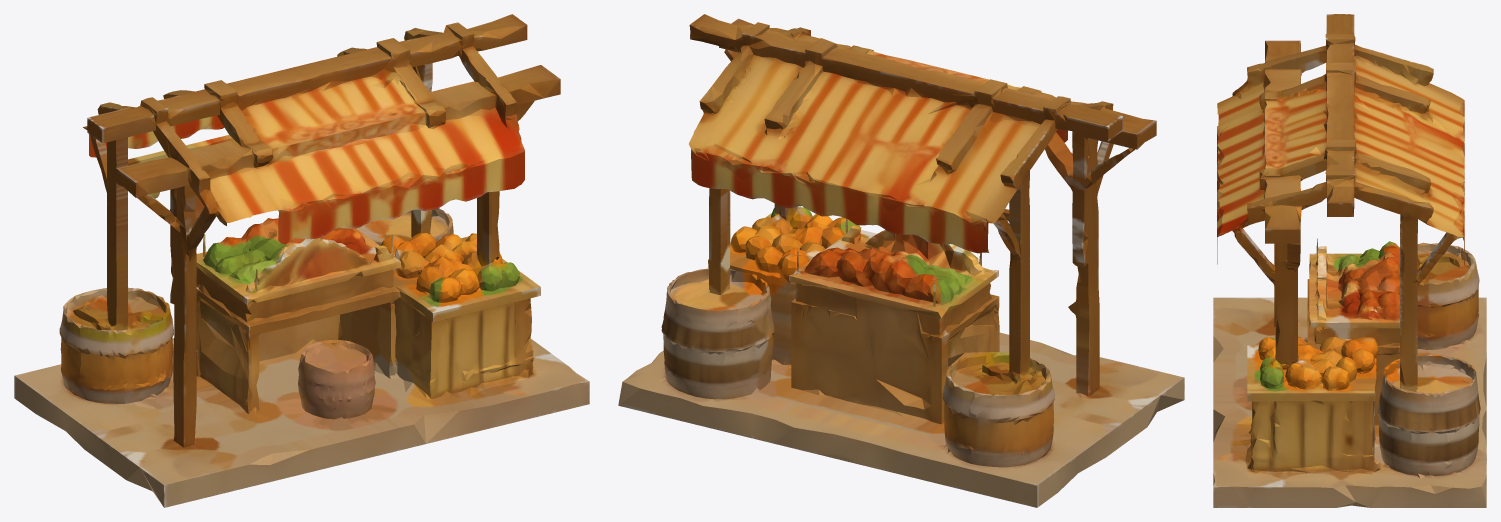
The model's file is market.glb.
The picture shows the model from 3 angles, left to right: view 1: azimuth 30°, elevation 25°; view 2: azimuth 150°, elevation 25°; view 3: azimuth 270°, elevation 25°; orthographic projection. The views are drawn at different scales.
Parts seen in each view (by area): view 1: Market; view 2: Market; view 3: Market.
Boxes of the visible parts, x1,y1,x2,y2 form: Market: (14,14,589,507); Market: (618,14,1184,507); Market: (1213,14,1486,507).
Bounding box in the file's own units: 1.89 × 1.44 × 1.15.
1 material, 1 textured.
